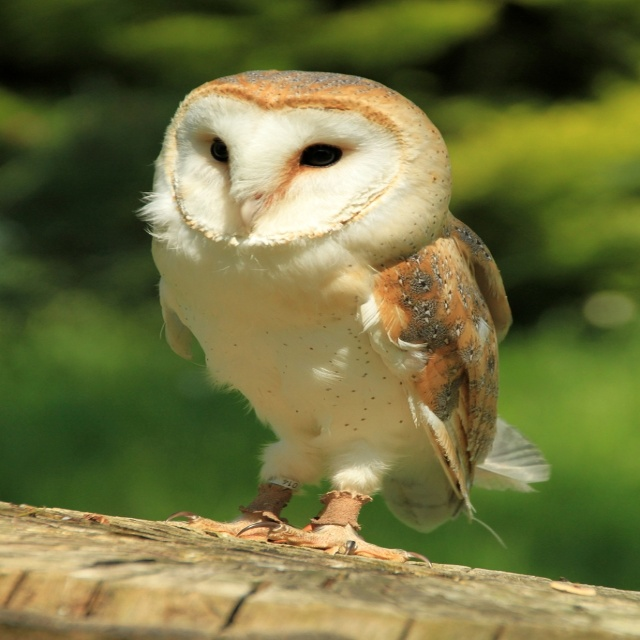Owl: (136, 68, 565, 559)
